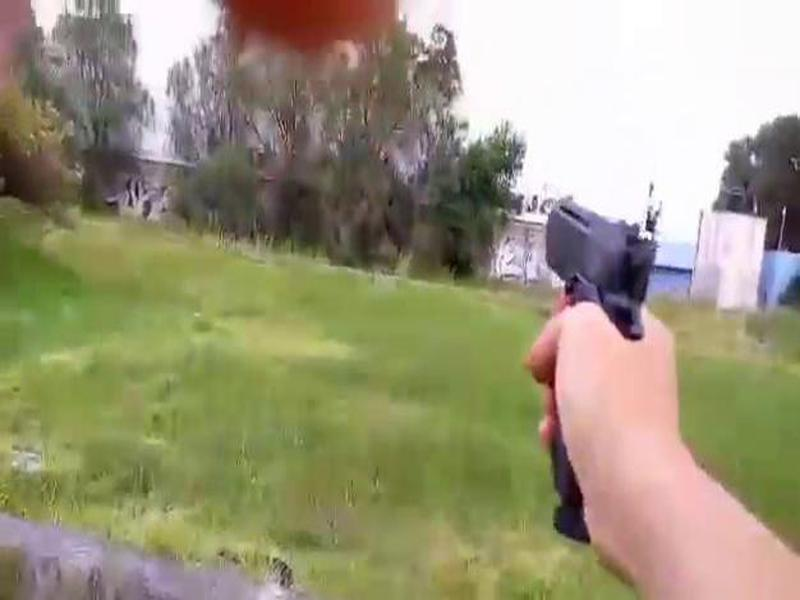Pistola: (524, 174, 664, 458)
